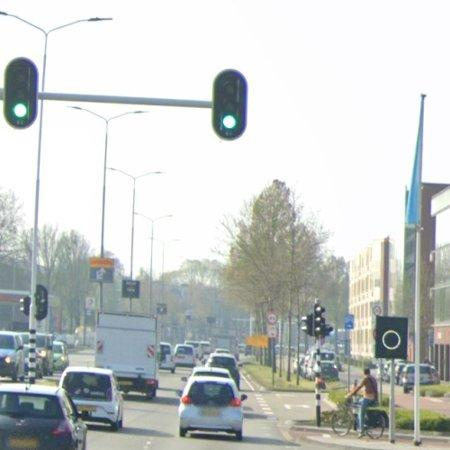traffic lights: (213, 69, 248, 140)
